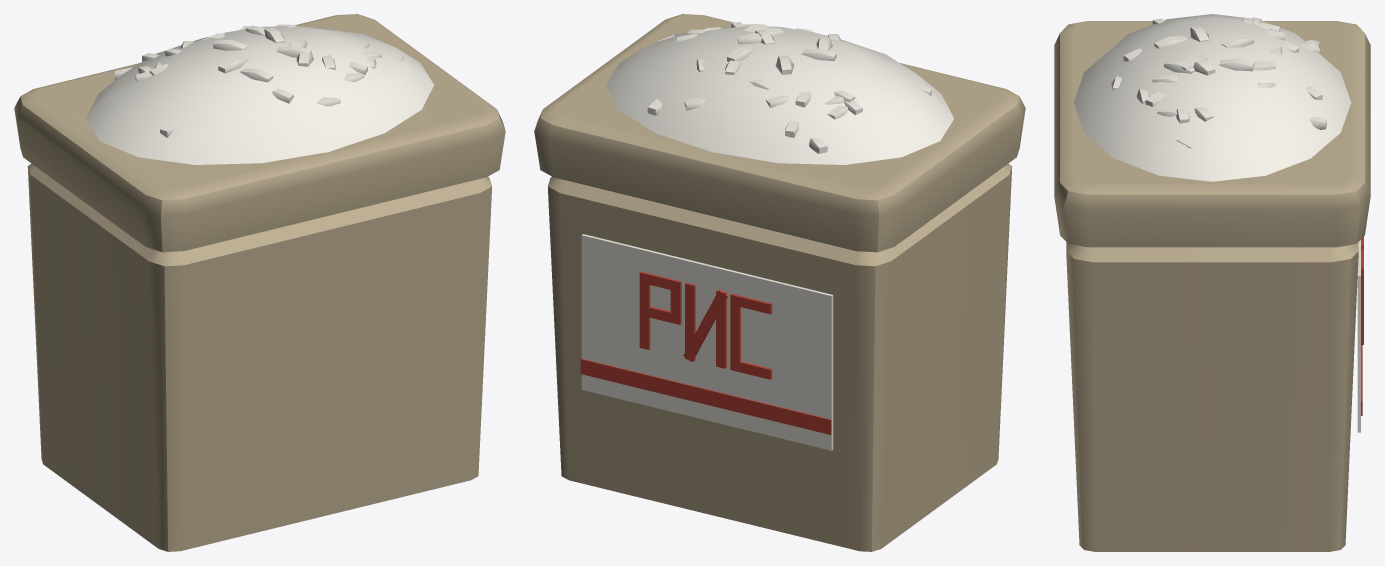
File: rice_bag.glb
3 renders of one model, left to right at view 1: azimuth 30°, elevation 25°; view 2: azimuth 150°, elevation 25°; view 3: azimuth 270°, elevation 25°, orthographic.
Visible parts, largest first — view 1: body; view 2: body; view 3: body.
Part boxes in pixels (x1,y1,x2,y2): body: (14,14,505,551); body: (534,14,1025,551); body: (1054,14,1370,551).
Bounding box in the file's own units: 0.0636 × 0.0708 × 0.0476.
